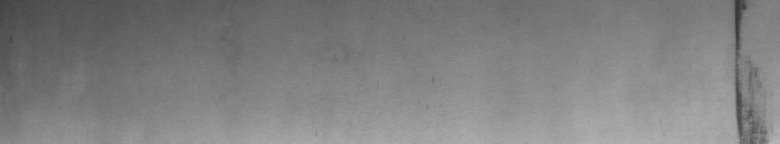hd: (728, 4, 768, 136)
